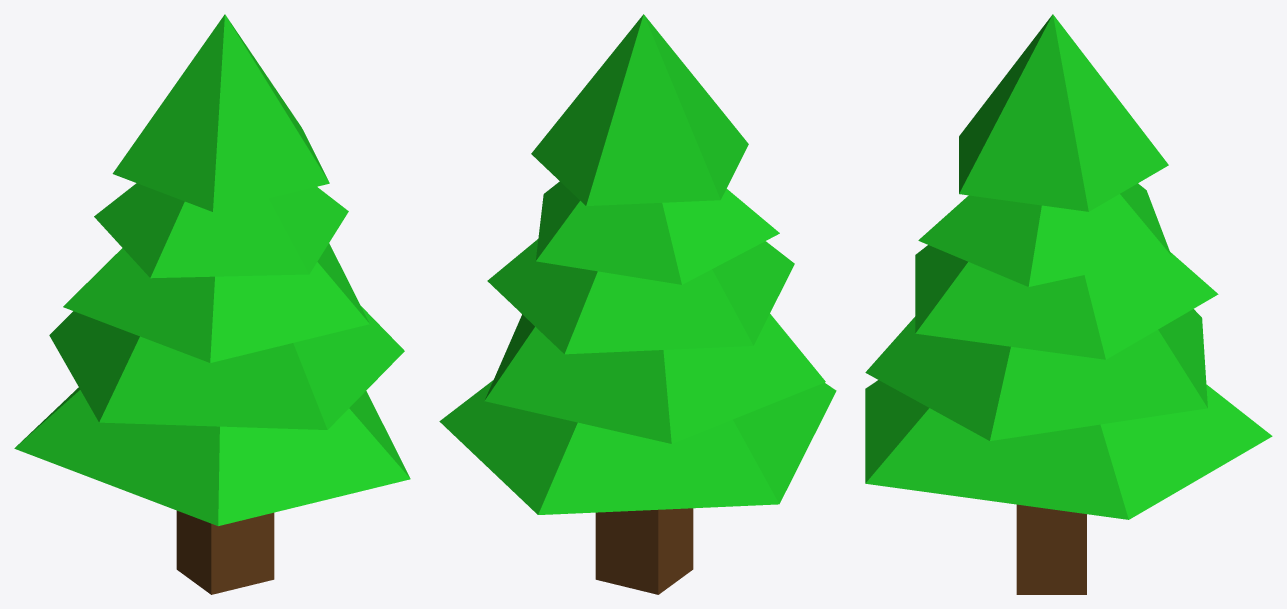
File: WinterTree.fbx
The picture shows the model from 3 angles, left to right: view 1: azimuth 30°, elevation 25°; view 2: azimuth 150°, elevation 25°; view 3: azimuth 270°, elevation 25°; orthographic projection.
Visible parts, largest first — view 1: WinterTree; view 2: WinterTree; view 3: WinterTree.
Part boxes in pixels (box(x1,y1,x2,y2)): WinterTree: box(14, 14, 410, 594); WinterTree: box(439, 14, 836, 594); WinterTree: box(865, 14, 1272, 594).
Size of the model in its own units: 215 by 339 by 221.
